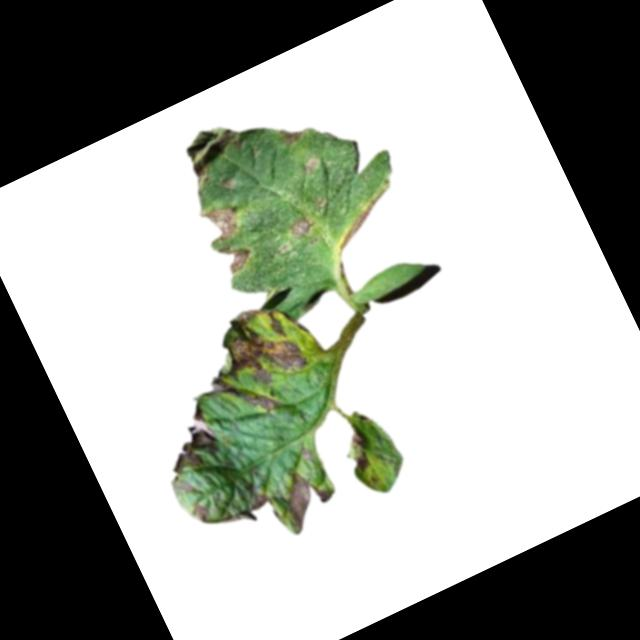Early_blight: (175, 293, 323, 434), (153, 408, 226, 480), (275, 457, 344, 530), (178, 116, 244, 175), (325, 194, 392, 251), (219, 486, 277, 532), (198, 195, 245, 246), (342, 424, 379, 471), (217, 237, 253, 275), (187, 495, 215, 525), (279, 119, 308, 146), (289, 214, 315, 241)
